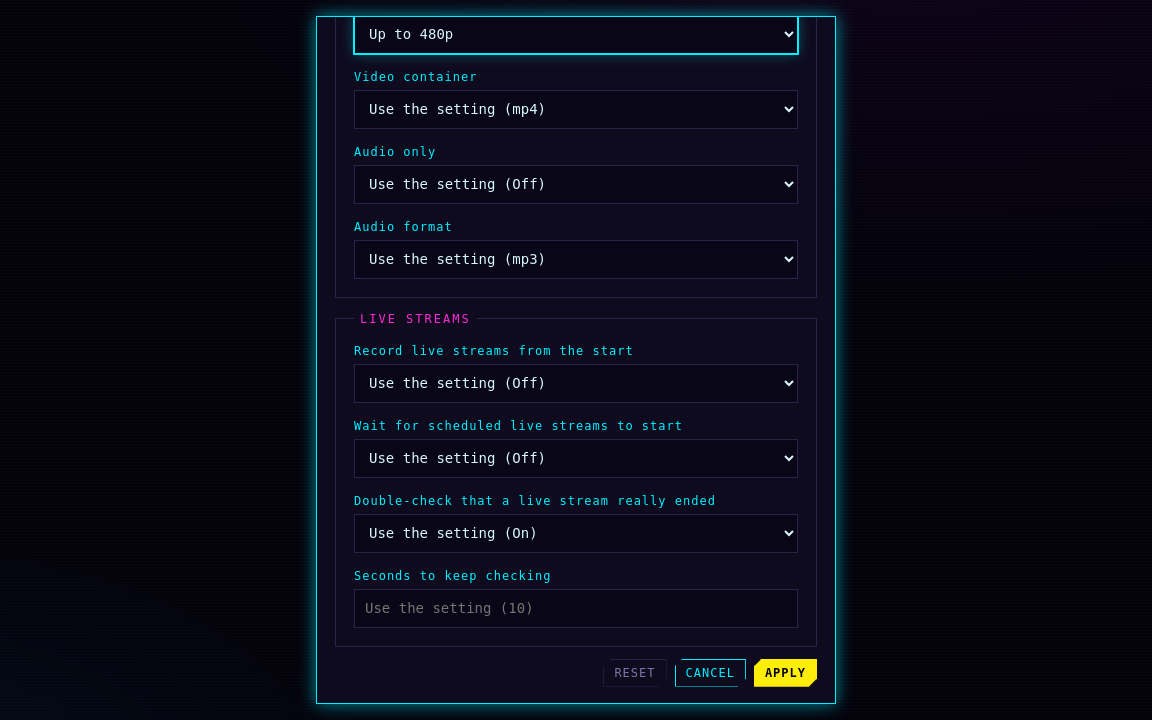
Scenario: DownloadOptionsDialog buttons › can reset the options the link already had
(page scrolled)
What coordinates should you click on to do the following:
click the button "RESET"
I would click on:
 (635, 672)
Its box is [603,658,666,686].
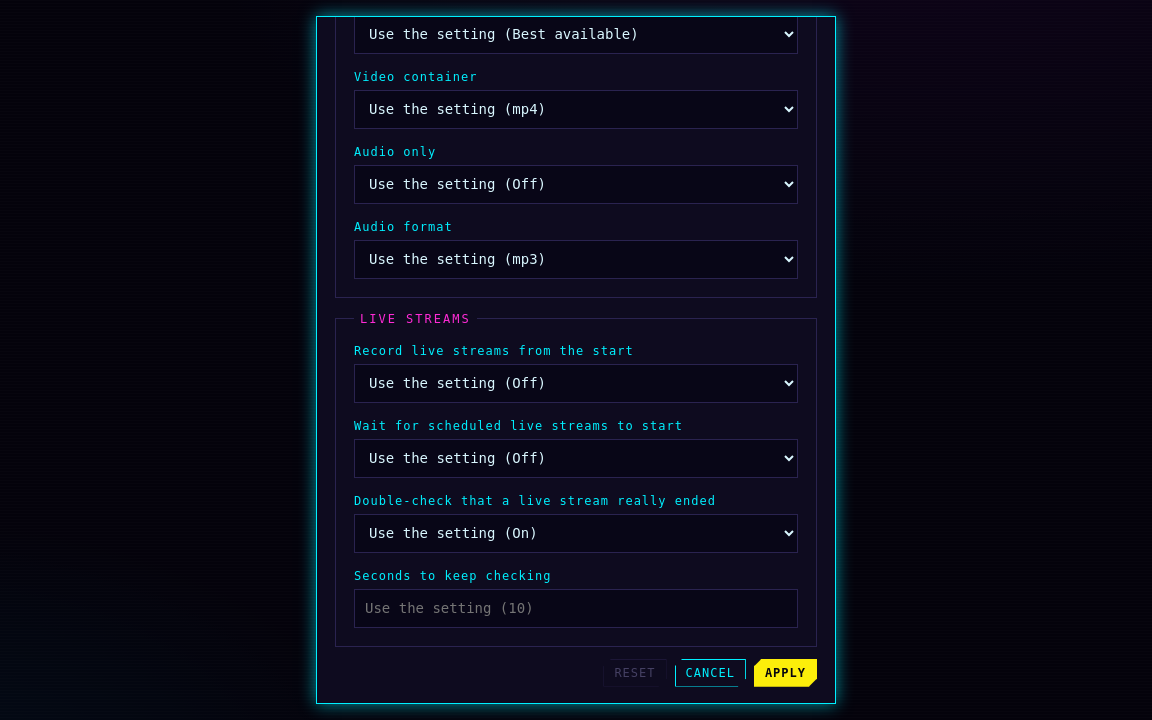
Result: the dropdown labelled "Video quality" shows "Use the setting (Best available)" at [354,16,798,54]
